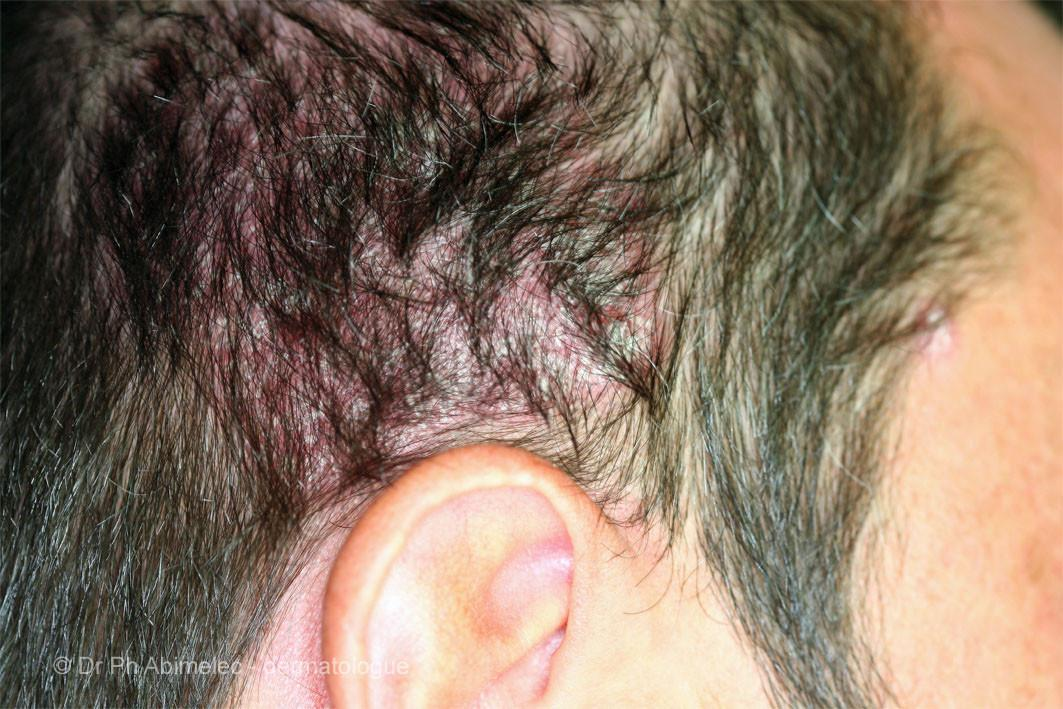Psoriasis: (113, 31, 728, 463)
